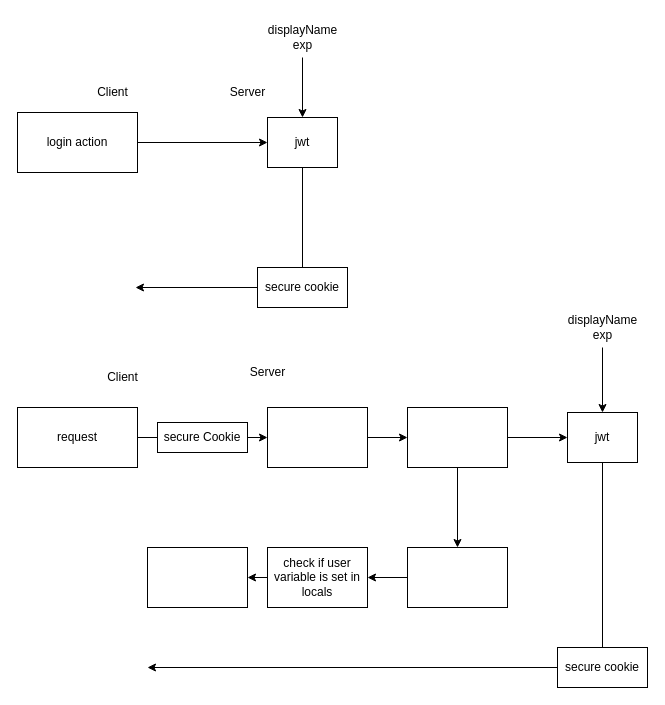
Image size: 665x705. Some labels were removed from this diagram. Here are the shapes that lost their labels. From the top down, the centre of each, then its label:
At pixel 317 437: "verify cookie".
At pixel 457 437: "set user in locals".
At pixel 197 577: "do action".
At pixel 457 577: "protected route".
